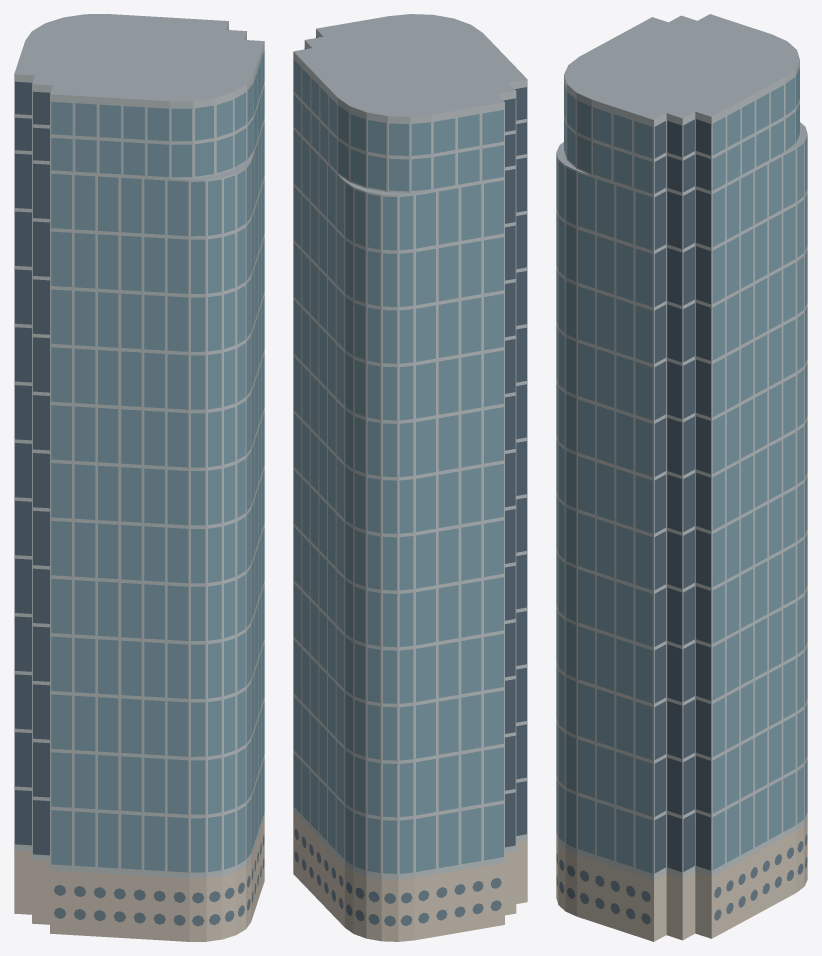
3 renders of one model, left to right at view 1: azimuth 30°, elevation 25°; view 2: azimuth 150°, elevation 25°; view 3: azimuth 270°, elevation 25°, orthographic. The views are drawn at different scales.
Visible parts, largest first — view 1: two-california-plaza; view 2: two-california-plaza; view 3: two-california-plaza.
Boxes of the visible parts, bbox=[...] form: two-california-plaza: bbox=[14, 14, 264, 941]; two-california-plaza: bbox=[293, 14, 527, 941]; two-california-plaza: bbox=[556, 14, 807, 941].
Bounding box in the file's own units: 65.83 × 238 × 65.94.
